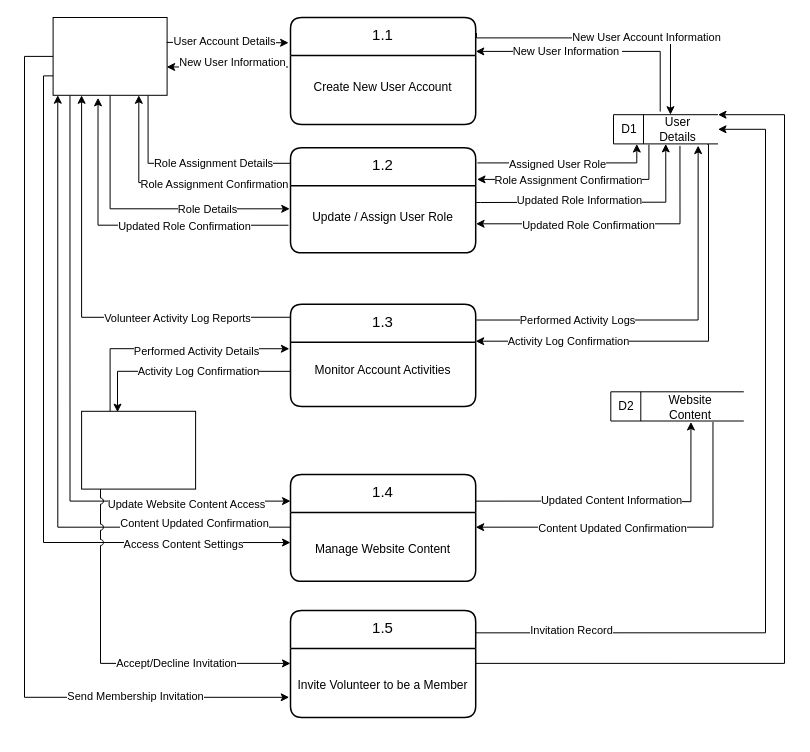
Some shapes in this 810 by 752 pixel diagram are drawn without their labels. Here are the shapes that lost their labels. From the top down, the centre of each, then its label:
At (109,55): "Administrator".
At (138,449): "Volunteer".
